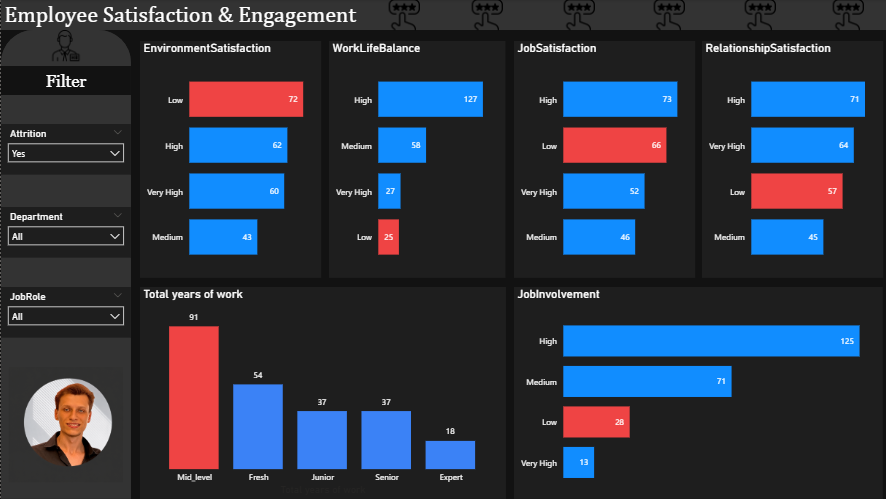

Layout of this report page (visuals, bound fields, positions):
{"tool":"powerbi","page":{"name":"Page 2","canvas":[1280,720],"ordinal":1},"visuals":[{"type":"shape","box":[0,0,1280.2,44.6],"z":0},{"type":"shape","box":[0,44.6,187.2,675.4],"z":1000},{"type":"slicer","fields":{"Values":["WA_Fn-UseC_-HR-Employee-Attrition.Attrition"]},"box":[0,180,187.2,73.4],"z":2000},{"type":"slicer","fields":{"Values":["WA_Fn-UseC_-HR-Employee-Attrition.Department"]},"box":[0,299.5,187.2,73.4],"z":3000},{"type":"slicer","fields":{"Values":["WA_Fn-UseC_-HR-Employee-Attrition.JobRole"]},"box":[0,414.7,187.2,73.4],"z":4000},{"type":"clusteredBarChart","title":" EnvironmentSatisfaction","fields":{"Category":["WA_Fn-UseC_-HR-Employee-Attrition.EnvironmentSatisfaction"],"Y":["CountNonNull(WA_Fn-UseC_-HR-Employee-Attrition.Attrition)"]},"box":[200.2,60.5,260.6,341.3],"z":5000},{"type":"clusteredBarChart","title":" JobInvolvement","fields":{"Category":["WA_Fn-UseC_-HR-Employee-Attrition.JobInvolvement"],"Y":["CountNonNull(WA_Fn-UseC_-HR-Employee-Attrition.Attrition)"]},"box":[738.7,414.7,531.4,305.3],"z":6000},{"type":"clusteredBarChart","title":" JobSatisfaction","fields":{"Y":["CountNonNull(WA_Fn-UseC_-HR-Employee-Attrition.Attrition)"],"Category":["WA_Fn-UseC_-HR-Employee-Attrition.JobSatisfaction"]},"box":[738.7,60.5,260.6,341.3],"z":7000},{"type":"clusteredBarChart","title":" RelationshipSatisfaction","fields":{"Y":["CountNonNull(WA_Fn-UseC_-HR-Employee-Attrition.Attrition)"],"Category":["WA_Fn-UseC_-HR-Employee-Attrition.RelationshipSatisfaction"]},"box":[1009.4,60.5,260.6,341.3],"z":8000},{"type":"clusteredBarChart","title":"WorkLifeBalance","fields":{"Y":["CountNonNull(WA_Fn-UseC_-HR-Employee-Attrition.Attrition)"],"Category":["WA_Fn-UseC_-HR-Employee-Attrition.WorkLifeBalance"]},"box":[472.3,60.5,254,341.3],"z":9000},{"type":"clusteredColumnChart","title":"Total years of work","fields":{"Category":["WA_Fn-UseC_-HR-Employee-Attrition.Total years of work"],"Y":["CountNonNull(WA_Fn-UseC_-HR-Employee-Attrition.Attrition)"]},"box":[200.2,414.7,527,305.3],"z":10000},{"type":"shape","box":[0,96.5,187.2,41.8],"z":11000},{"type":"textbox","box":[11.5,99.4,164.2,38.9],"z":12000},{"type":"textbox","box":[0,0,622.1,60.5],"z":13000},{"type":"image","box":[0,529.9,187.2,165.6],"z":14000},{"type":"image","box":[521.3,0,119.5,44.6],"z":15000},{"type":"image","box":[640.8,0,119.5,44.6],"z":16000},{"type":"image","box":[773.3,0,119.5,44.6],"z":17000},{"type":"image","box":[902.9,0,119.5,44.6],"z":18000},{"type":"image","box":[1033.9,0,119.5,44.6],"z":19000},{"type":"image","box":[1160.6,0,119.5,44.6],"z":20000},{"type":"image","box":[11.5,44.6,164.2,44.6],"z":21000}]}

Visuals, with their boxes in screenshot pixels (x1, y1, x2, y2), scaled from the page's 1280x720 canvas onto the 886x499 screenshot:
shape: 0/0/885/31
shape: 0/31/130/498
slicer - WA_Fn-UseC_-HR-Employee-Attrition.Attrition: 0/125/130/176
slicer - WA_Fn-UseC_-HR-Employee-Attrition.Department: 0/208/130/258
slicer - WA_Fn-UseC_-HR-Employee-Attrition.JobRole: 0/287/130/338
" EnvironmentSatisfaction" clusteredBarChart: 139/42/319/278
" JobInvolvement" clusteredBarChart: 511/287/879/498
" JobSatisfaction" clusteredBarChart: 511/42/692/278
" RelationshipSatisfaction" clusteredBarChart: 699/42/879/278
"WorkLifeBalance" clusteredBarChart: 327/42/503/278
"Total years of work" clusteredColumnChart: 139/287/503/498
shape: 0/67/130/96
textbox: 8/69/122/96
textbox: 0/0/431/42
image: 0/367/130/482
image: 361/0/444/31
image: 444/0/526/31
image: 535/0/618/31
image: 625/0/708/31
image: 716/0/798/31
image: 803/0/885/31
image: 8/31/122/62
